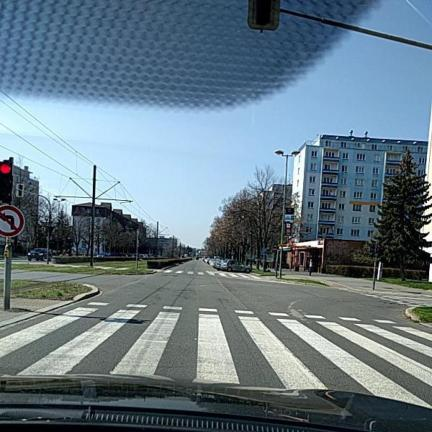Road: (0, 261, 431, 405)
